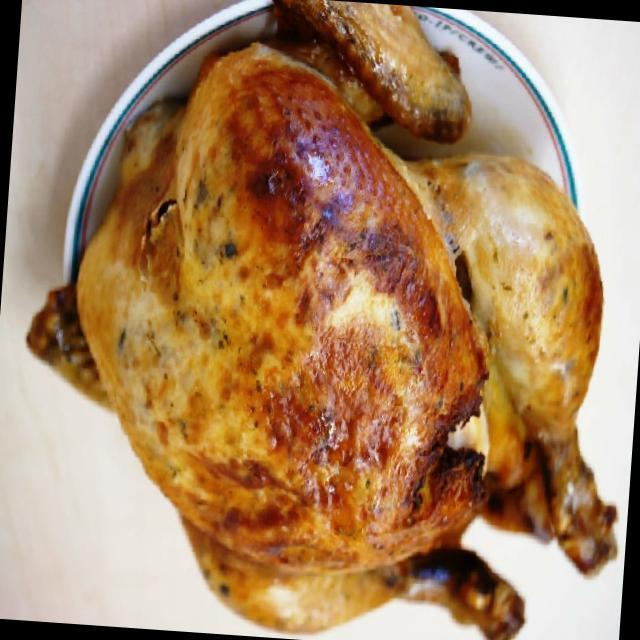Chicken: (10, 11, 640, 640)
